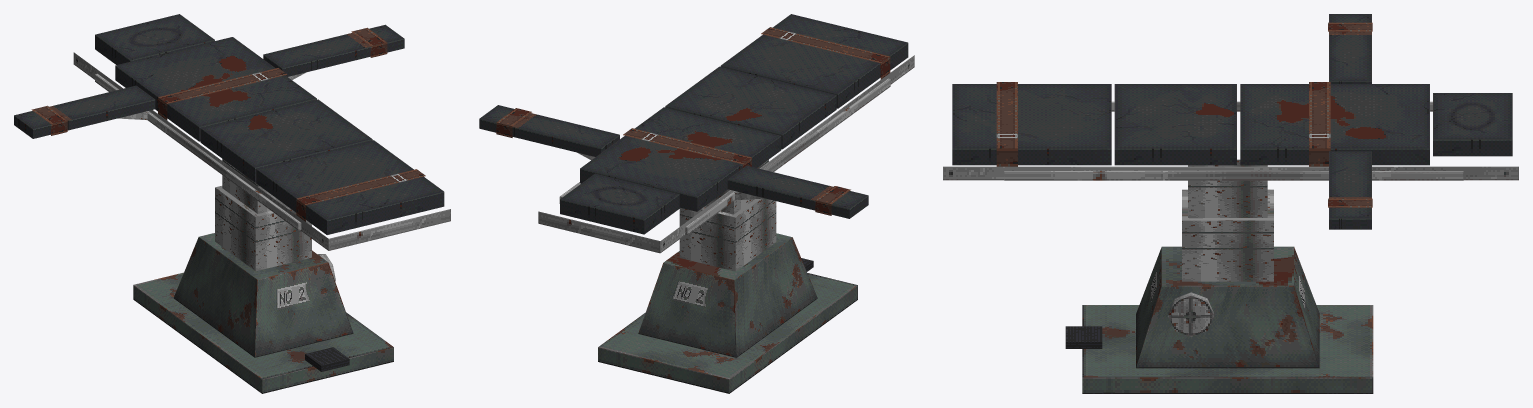
File: operating_table.glb
3 views of the same model, side by side, from view 1: azimuth 30°, elevation 25°; view 2: azimuth 150°, elevation 25°; view 3: azimuth 270°, elevation 25° (orthographic). The views are drawn at different scales.
Parts seen in each view (by area): view 1: operating_table; view 2: operating_table; view 3: operating_table.
Part boxes in pixels (x1,y1,x2,y2): operating_table: [14, 14, 450, 393]; operating_table: [479, 14, 914, 393]; operating_table: [943, 14, 1518, 393].
Size of the model in its own units: 1.58 by 0.874 by 1.88.
Materials: 1 (1 with a texture image).
